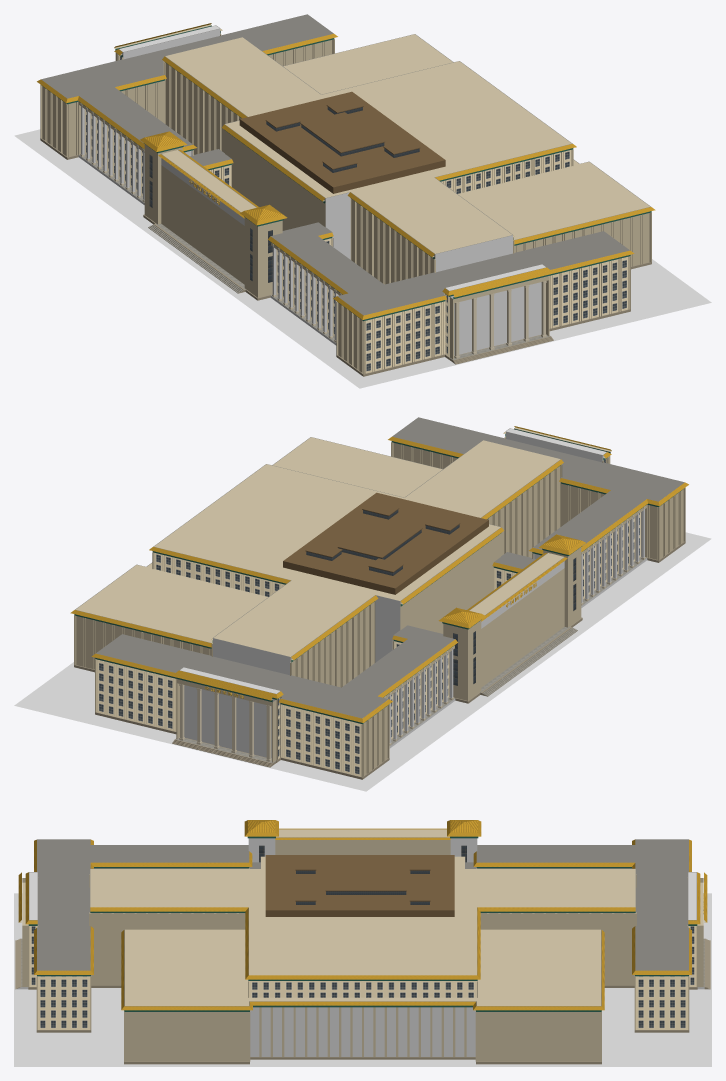
Rendered from nationalmuseum.glb.
3 renders of one model, top to bottom at view 1: azimuth 30°, elevation 25°; view 2: azimuth 150°, elevation 25°; view 3: azimuth 270°, elevation 25°, orthographic.
Visible parts, largest first — view 1: Massing, Museum, CLEAR_museum, COL_part15, FOOTPRINT_museum, COL_part9, COL_part8, COL_part14, COL_entablature; view 2: Massing, Museum, CLEAR_museum, COL_part14, COL_part9, COL_part8, COL_part15, FOOTPRINT_museum, COL_entablature; view 3: Massing, Museum, FOOTPRINT_museum, COL_part13, CLEAR_museum, COL_part4, COL_part5, COL_part14, COL_part15.
Part boxes in pixels (box(x1,y1,x2,y2)): Massing: box(42, 34, 650, 372); Museum: box(37, 14, 655, 376); CLEAR_museum: box(14, 129, 711, 388); COL_part15: box(446, 264, 545, 355); FOOTPRINT_museum: box(37, 135, 450, 384); COL_part9: box(435, 235, 512, 272); COL_part8: box(325, 192, 350, 259); COL_part14: box(119, 25, 219, 59); COL_entablature: box(161, 158, 244, 225); Massing: box(75, 437, 683, 775); Museum: box(70, 417, 688, 779); CLEAR_museum: box(14, 532, 711, 791); COL_part14: box(180, 667, 279, 758); COL_part9: box(213, 638, 290, 675); COL_part8: box(375, 595, 400, 662); COL_part15: box(506, 428, 606, 462); FOOTPRINT_museum: box(302, 538, 694, 787); COL_entablature: box(481, 561, 564, 628); Massing: box(90, 829, 635, 1061); Museum: box(15, 820, 710, 1064); FOOTPRINT_museum: box(20, 921, 705, 1064); COL_part13: box(250, 1007, 475, 1056); CLEAR_museum: box(14, 893, 711, 1066); COL_part4: box(450, 838, 477, 862); COL_part5: box(248, 838, 275, 862); COL_part14: box(688, 872, 696, 919); COL_part15: box(29, 872, 37, 919).
Size of the model in its own units: 199 by 48.9 by 339.
Materials: 11 (4 with a texture image).
